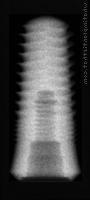Implant Direct: (6, 13, 82, 182)
